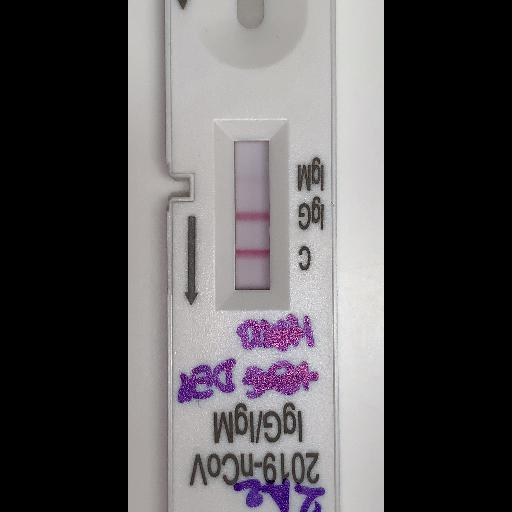Pos: (165, 0, 335, 510)
